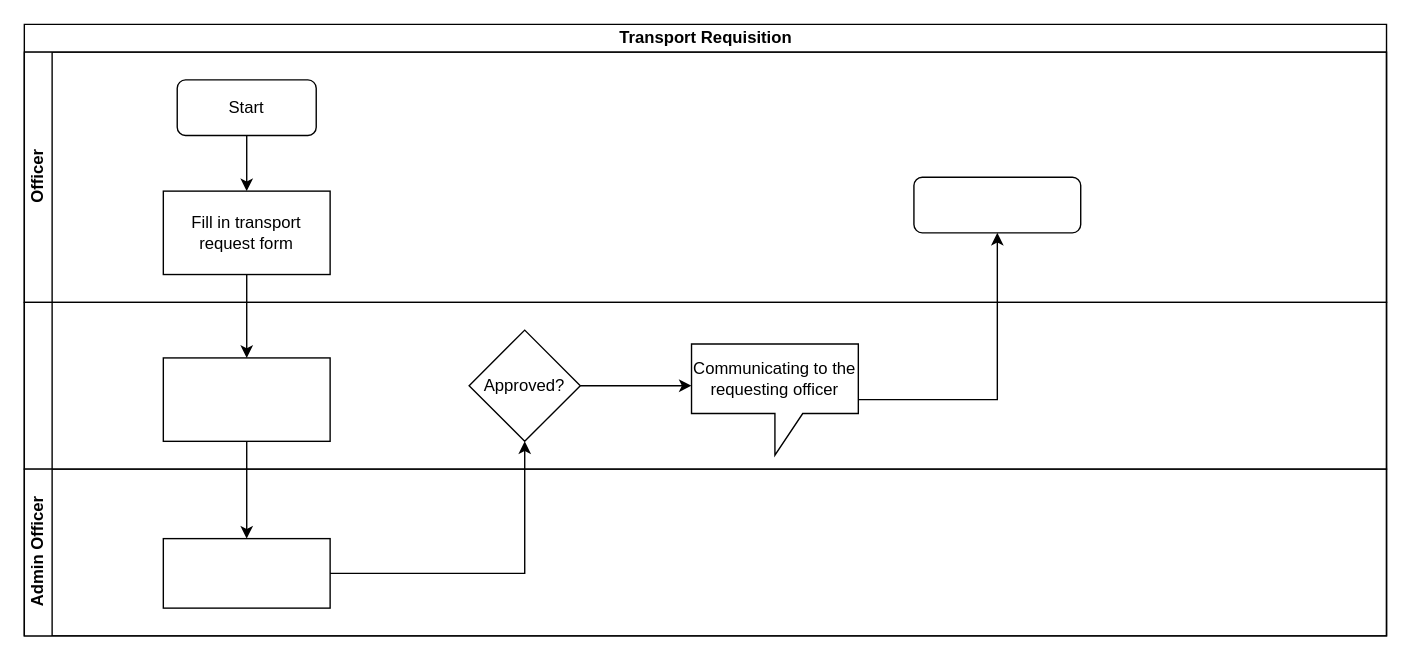
Image size: 1411x660. Some labels were removed from this diagram. The box of each missing label's shape, as (x1, y1, x2, y2) in pixels:
End: (913, 176, 1081, 233)
HRM: (23, 301, 1387, 469)
Identify vehicle and driver for assignment: (162, 537, 330, 608)
Receive and assign to admin officer: (162, 357, 330, 441)
